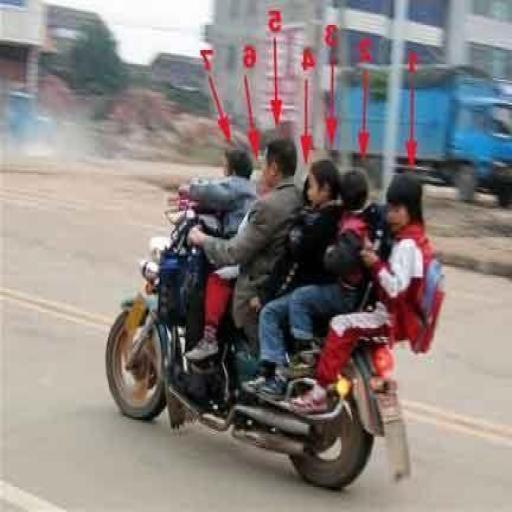no helmet: (264, 113, 307, 237)
triple riding: (103, 108, 459, 488)
